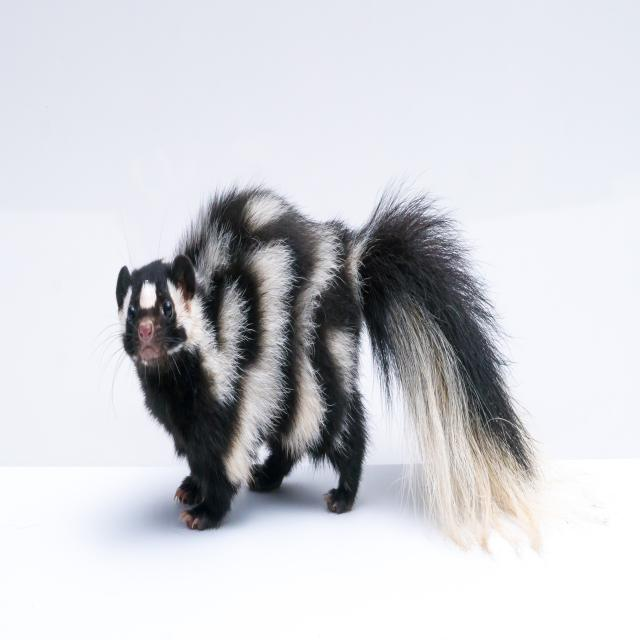Skunk: (105, 117, 548, 600)
